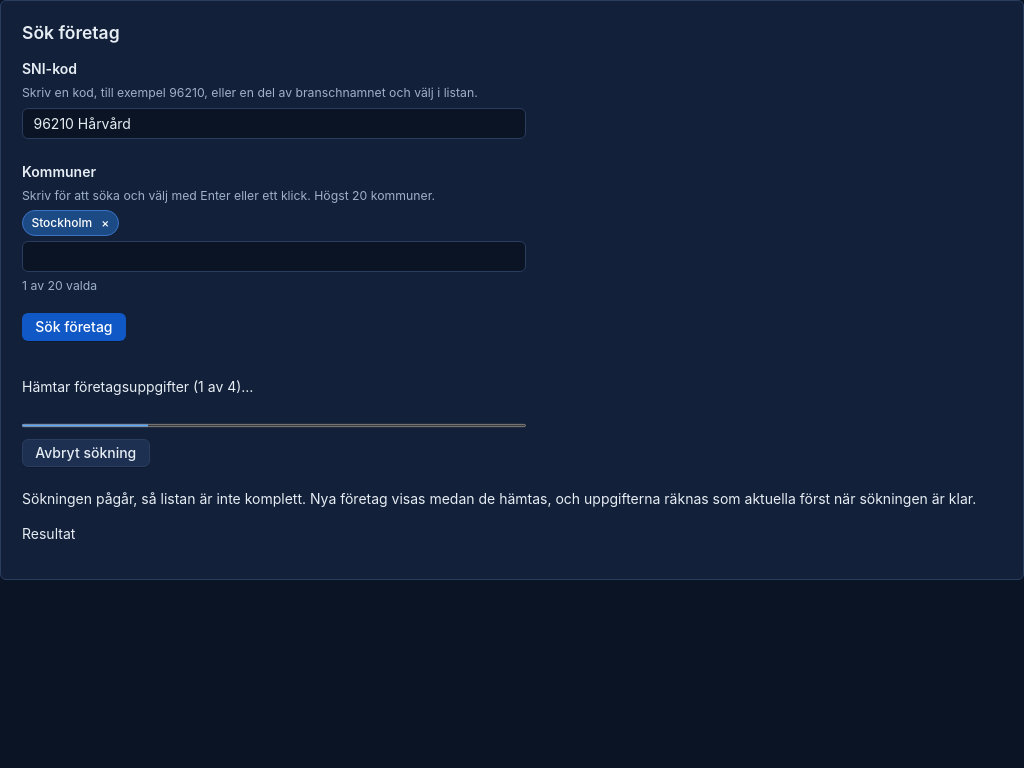
SearchPage cancel › cancels a running search, stops polling, and does not start a new search
Click the button "Avbryt sökning". click: (86, 453)
box: [22, 439, 150, 467]
Wait 6000 ms
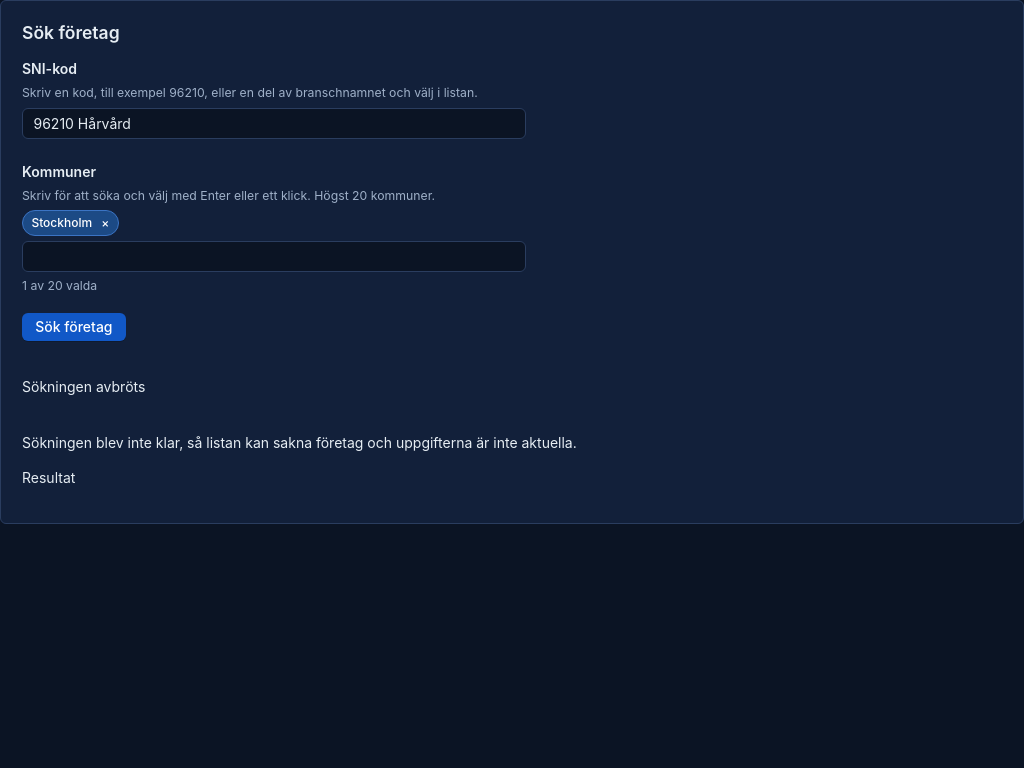
Check: the progress indicator is gone
Check: the text "Sökningen blev inte klar, så listan kan sakna företag och uppgifterna är inte aktuella." is shown, box [22, 434, 577, 451]
Check: the text "Sökningen avbröts" is shown, box [22, 376, 145, 397]
